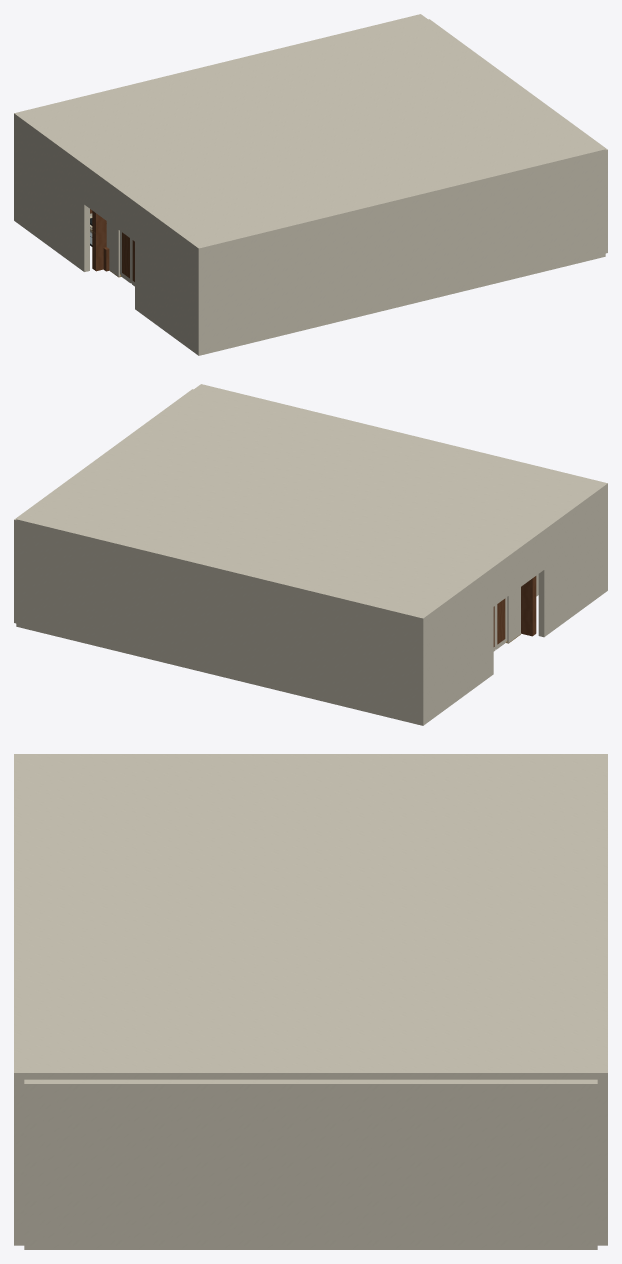
The picture shows the model from 3 angles, top to bottom: view 1: azimuth 30°, elevation 25°; view 2: azimuth 150°, elevation 25°; view 3: azimuth 270°, elevation 25°; orthographic projection. The views are drawn at different scales.
Parts seen in each view (by area): view 1: PremiumPressureClosure, ForePartyWall, InnerAftPartyReturn, InnerForePartyReturn, ArrivalHeader, ArrivalAftPocket, HeldFrontageOpaqueEnclosure, PrivateEntry_01_ENTRY_PocketSkin_1_1; view 2: PremiumPressureClosure, AftPartyWall, InnerAftPartyReturn, InnerForePartyReturn, ArrivalHeader, ArrivalForePocket, PrivateEntry_01_ENTRY_PocketSkin_-1_1, HeldFrontageOpaqueEnclosure; view 3: PremiumPressureClosure, HeldFrontageOpaqueEnclosure, ForePartyWall, AftPartyWall.
Part boxes in pixels (box(x1,y1,x2,y2)): PremiumPressureClosure: box(14, 14, 605, 252); ForePartyWall: box(195, 153, 605, 355); InnerAftPartyReturn: box(14, 117, 89, 271); InnerForePartyReturn: box(135, 206, 204, 355); ArrivalHeader: box(84, 169, 134, 241); ArrivalAftPocket: box(92, 210, 106, 271); HeldFrontageOpaqueEnclosure: box(428, 19, 607, 253); PrivateEntry_01_ENTRY_PocketSkin_1_1: box(106, 221, 119, 276); PremiumPressureClosure: box(16, 384, 607, 622); AftPartyWall: box(16, 523, 426, 725); InnerAftPartyReturn: box(417, 571, 493, 725); InnerForePartyReturn: box(538, 490, 607, 637); ArrivalHeader: box(493, 534, 544, 606); ArrivalForePocket: box(521, 576, 536, 636); PrivateEntry_01_ENTRY_PocketSkin_-1_1: box(507, 587, 520, 642); HeldFrontageOpaqueEnclosure: box(14, 389, 193, 623); PremiumPressureClosure: box(14, 754, 607, 1079); HeldFrontageOpaqueEnclosure: box(24, 1079, 597, 1249); ForePartyWall: box(14, 1079, 24, 1245); AftPartyWall: box(597, 1079, 607, 1245).
Size of the model in its own units: 17.88 by 4.45 by 13.88.
158 materials, 152 textured.
